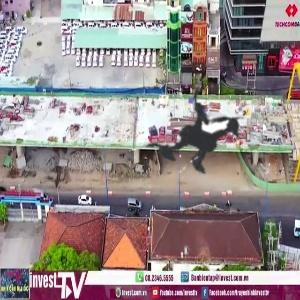drone: (107, 50, 297, 240)
